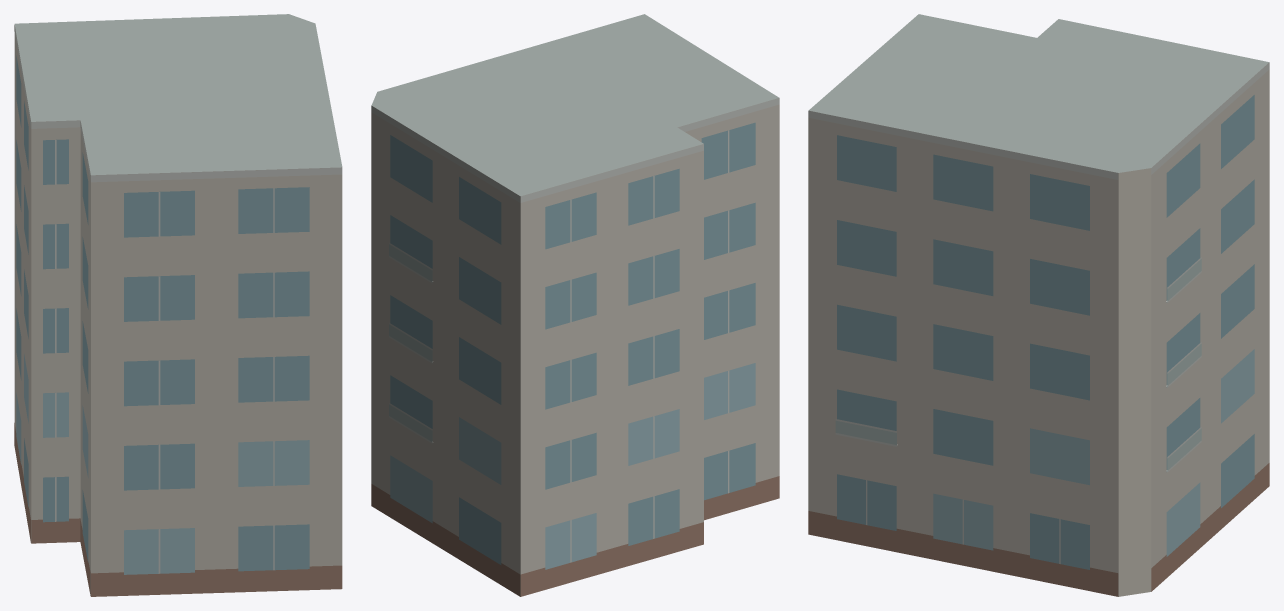
The model's file is survey-upis-32892476.glb.
The picture shows the model from 3 angles, left to right: view 1: azimuth 30°, elevation 25°; view 2: azimuth 150°, elevation 25°; view 3: azimuth 270°, elevation 25°; orthographic projection. The views are drawn at different scales.
Parts seen in each view (by area): view 1: survey-upis-32892476.tmp; view 2: survey-upis-32892476.tmp; view 3: survey-upis-32892476.tmp.
Part boxes in pixels (left/top/right/bottom): survey-upis-32892476.tmp: left=14, top=14, right=342, bottom=596; survey-upis-32892476.tmp: left=371, top=14, right=779, bottom=596; survey-upis-32892476.tmp: left=808, top=14, right=1269, bottom=596.
Bounding box in the file's own units: 11.71 × 14.55 × 14.36.
